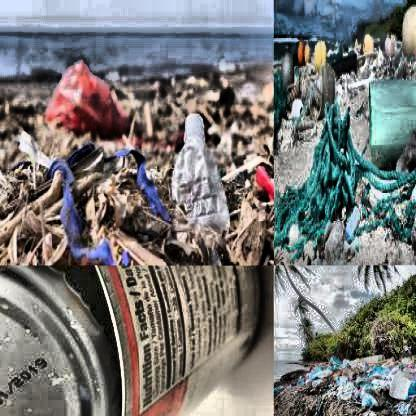Fishing wastes: (282, 107, 357, 242)
Metal wastes: (0, 266, 169, 415)
Plastic wastes: (170, 110, 234, 239), (44, 57, 134, 138)
